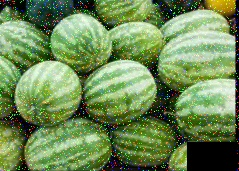watermelon: (82, 59, 158, 125), (24, 119, 113, 169), (15, 58, 80, 126), (159, 32, 235, 87), (51, 13, 113, 68)
